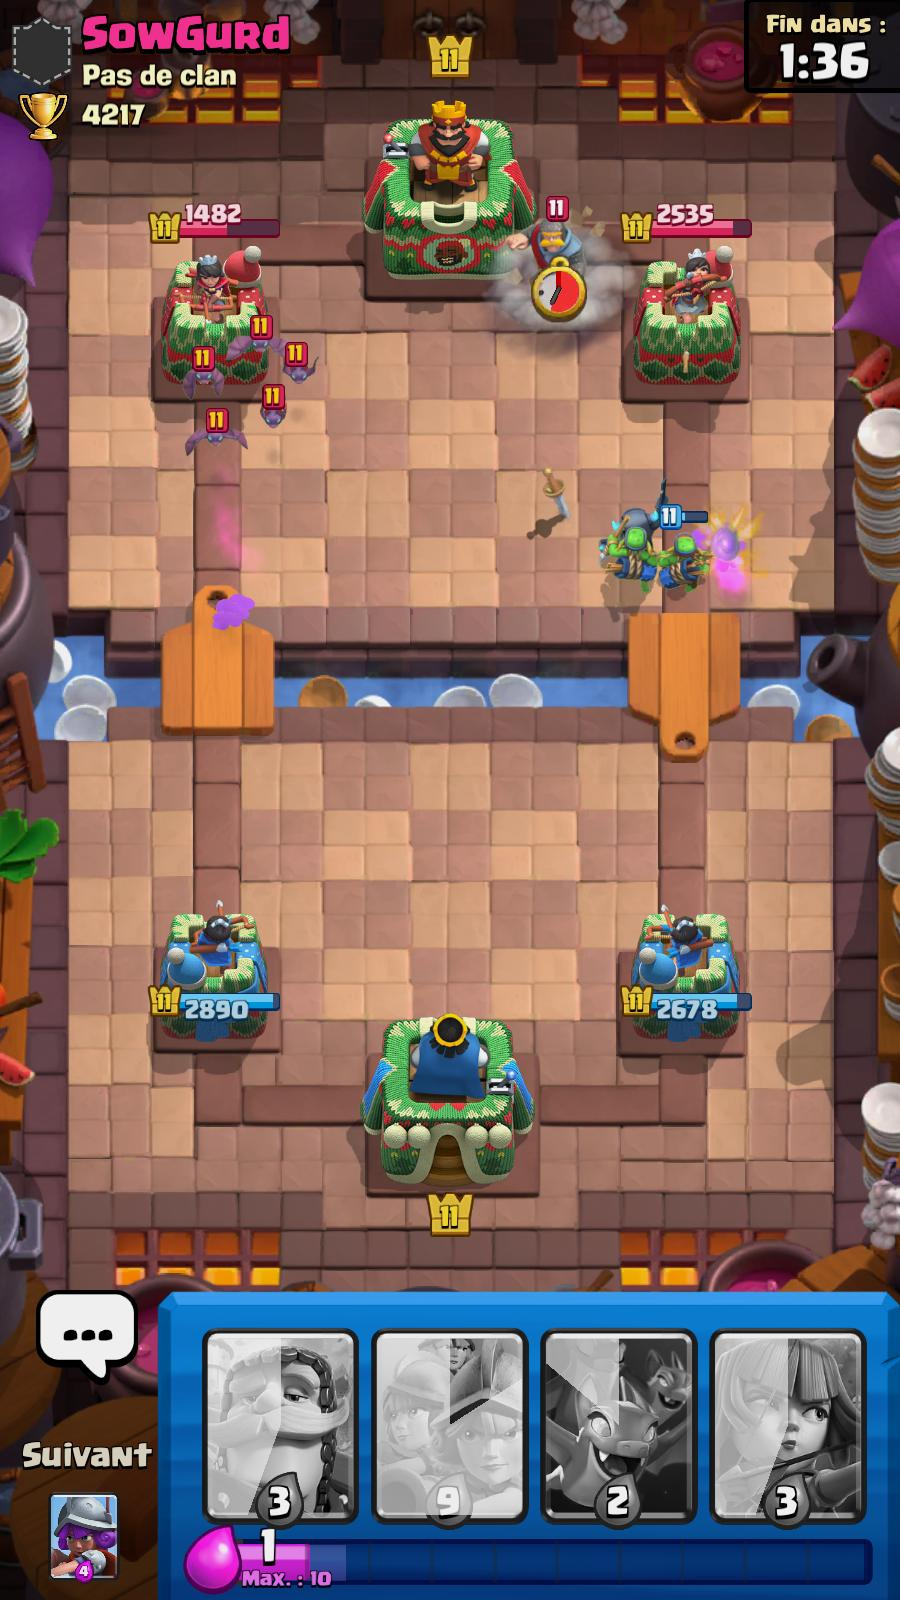bat: (182, 403, 248, 456), (227, 311, 287, 366), (176, 346, 227, 396), (282, 340, 322, 396), (253, 381, 289, 433)
chevalier: (511, 198, 586, 282)
gobelin_lances: (662, 504, 712, 597), (610, 527, 662, 586)
mini_PEKKA: (614, 478, 675, 537)
